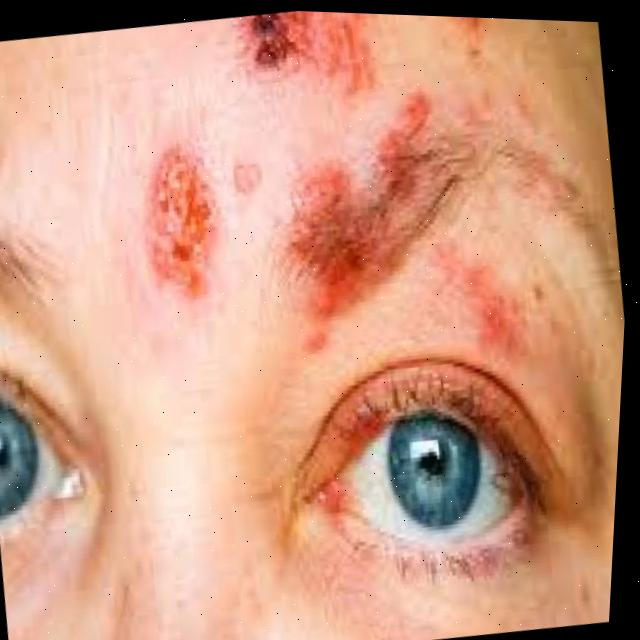Shingles: (267, 98, 453, 274), (144, 148, 229, 305), (252, 9, 389, 94)
